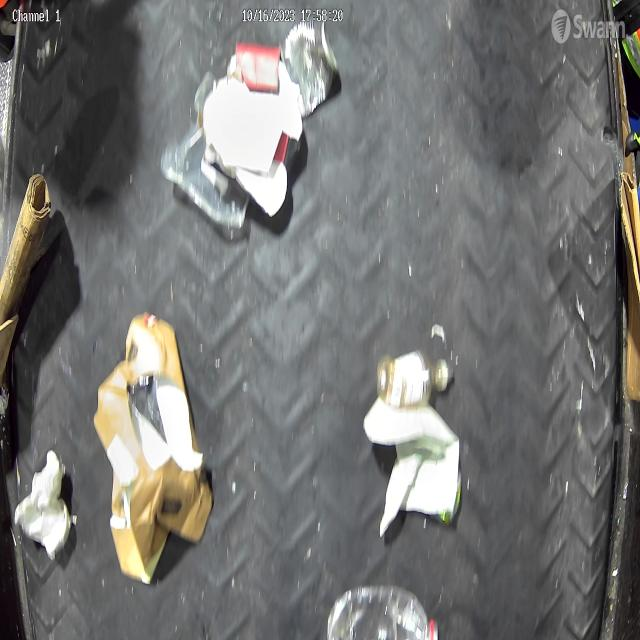can: (281, 17, 339, 117)
plastic_bottle: (327, 582, 441, 640)
